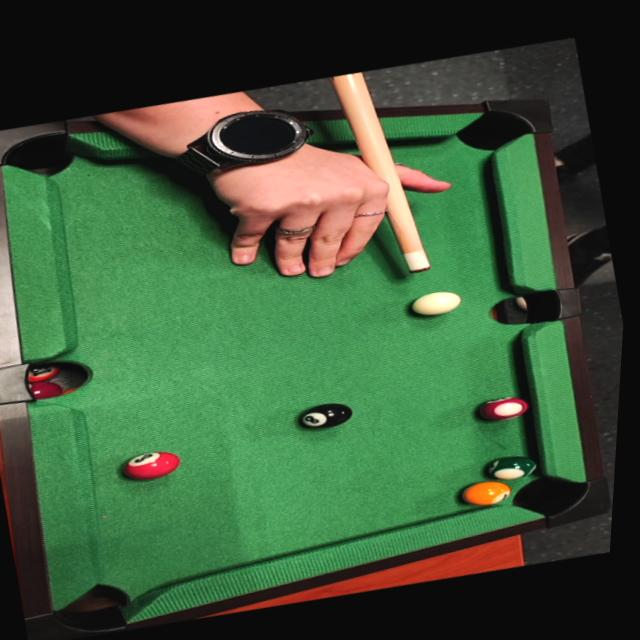cue ball: (406, 282, 469, 326)
other: (117, 442, 184, 487), (469, 387, 533, 431), (477, 446, 540, 490), (454, 471, 515, 515), (293, 394, 354, 436)
